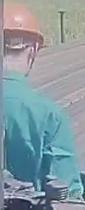helmet: (3, 1, 45, 46)
vest: (5, 80, 85, 201)
